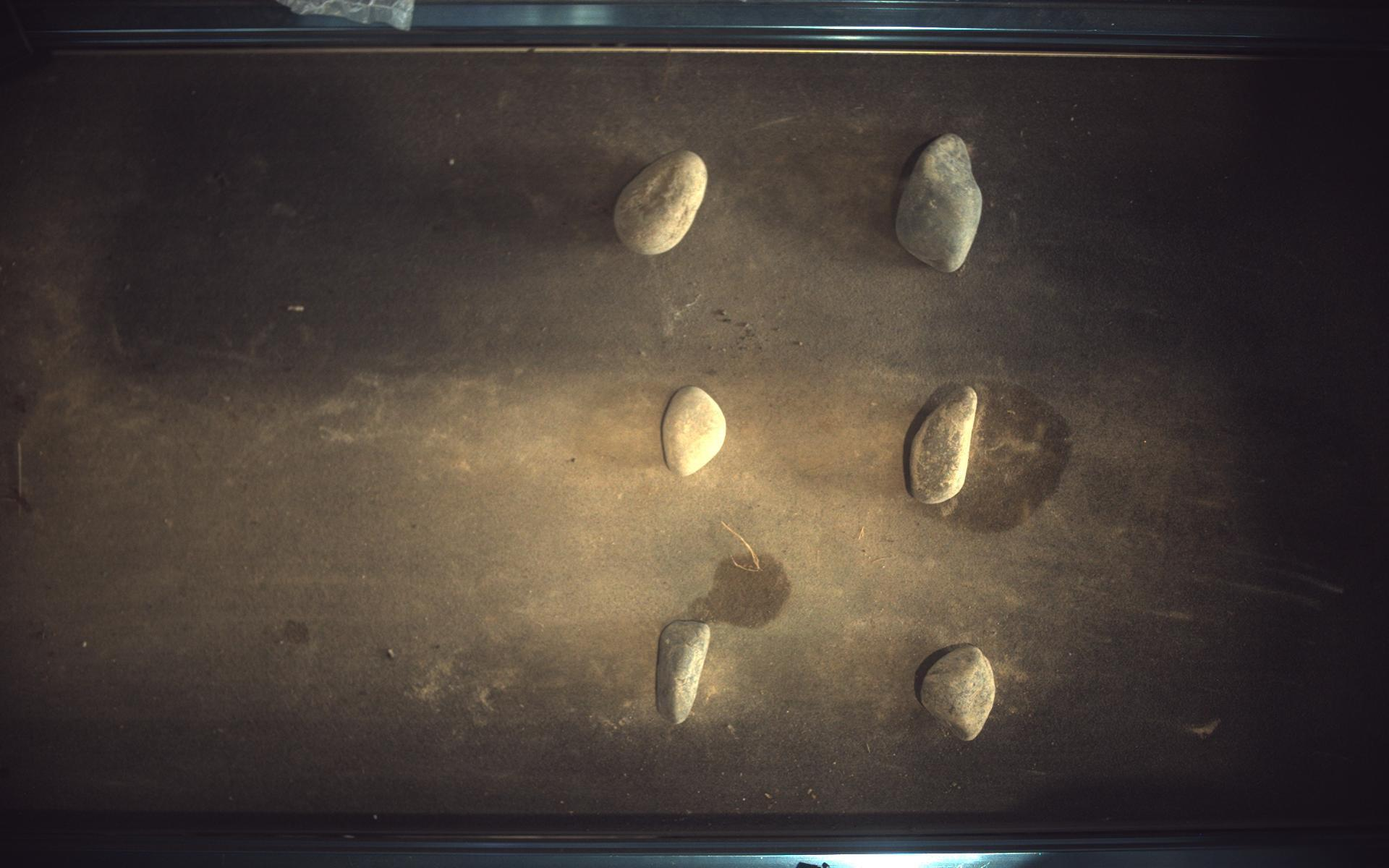stone: (898, 132, 984, 272), (614, 150, 708, 255), (916, 644, 998, 742), (912, 386, 980, 504), (663, 386, 727, 477), (657, 623, 711, 725)
